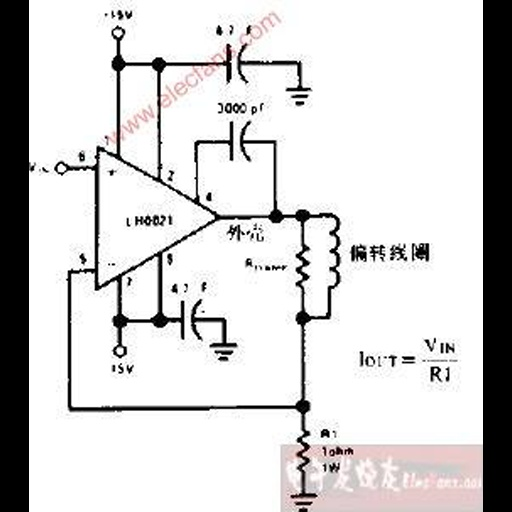amplifier: (90, 141, 224, 294)
gnd: (280, 85, 321, 110), (205, 343, 242, 364), (287, 493, 324, 512)
inductor: (324, 212, 345, 291)
secondresistance: (290, 238, 313, 292)
